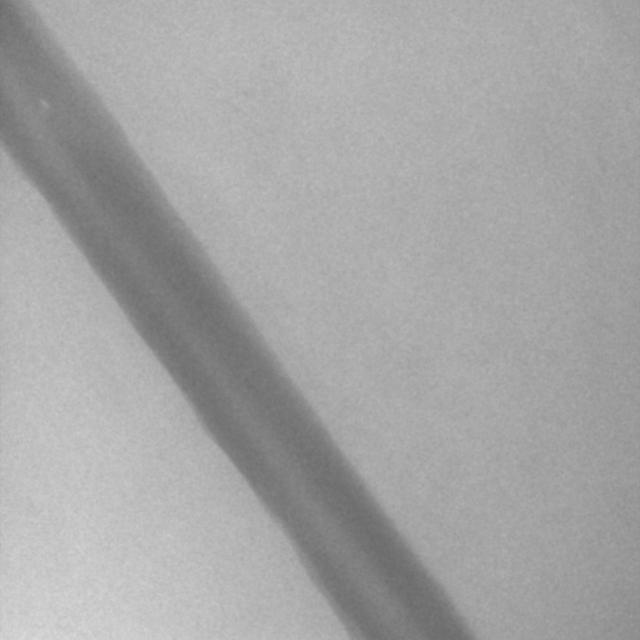air hole: (39, 98, 49, 112)
